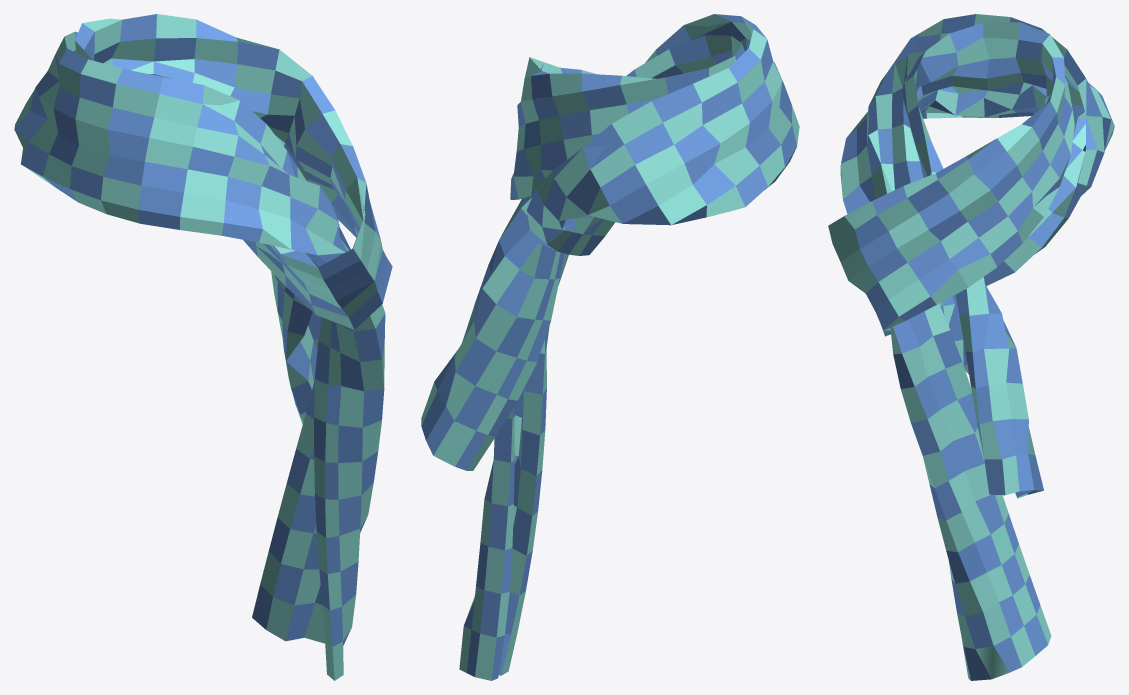
File: Scarf.fbx
3 views of the same model, side by side, from view 1: azimuth 30°, elevation 25°; view 2: azimuth 150°, elevation 25°; view 3: azimuth 270°, elevation 25° (orthographic). The views are drawn at different scales.
Parts seen in each view (by area): view 1: Scarf; view 2: Scarf; view 3: Scarf.
Boxes of the visible parts, x1,y1,x2,y2 form: Scarf: [14, 14, 392, 680]; Scarf: [421, 14, 799, 680]; Scarf: [828, 14, 1114, 680].
Size of the model in its own units: 25.24 by 48.41 by 22.19.
